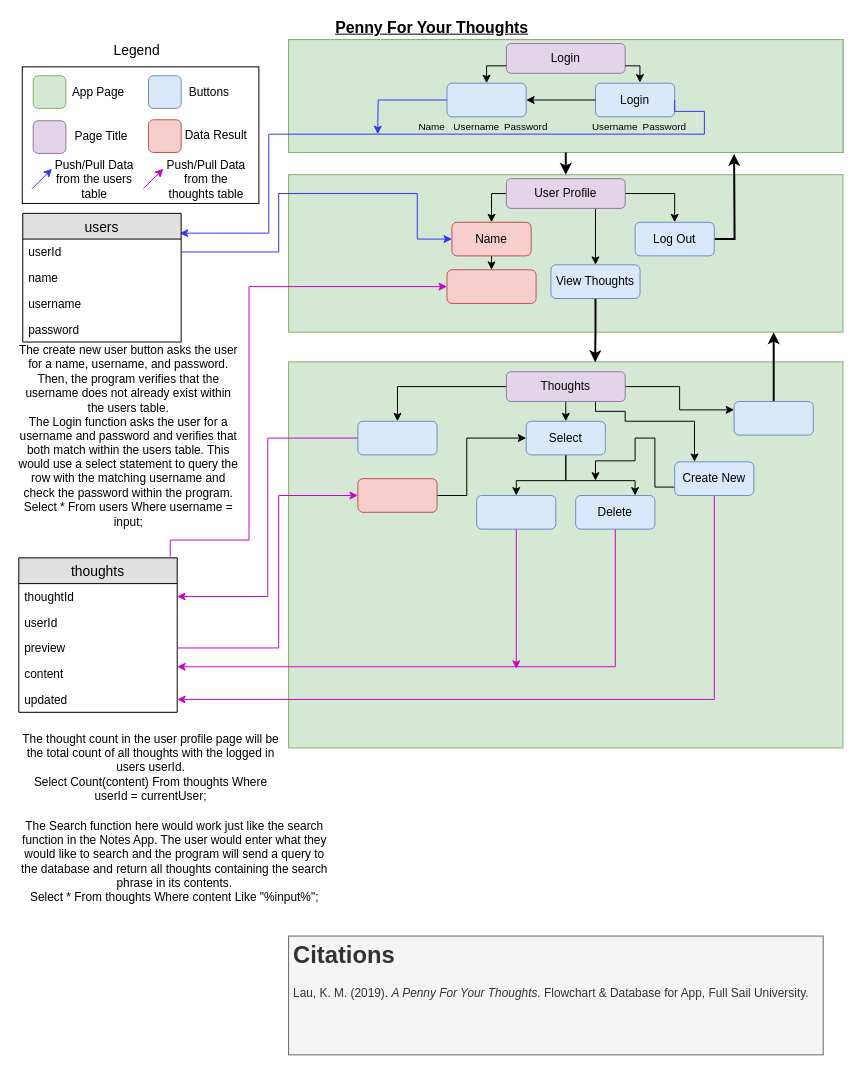
Some shapes in this 860 by 1072 pixel diagram are drawn without their labels. Each missing label, with the centre of its shape:
"Create New User" goes at (x=486, y=99).
"Edit" goes at (x=516, y=512).
"Results" goes at (x=397, y=495).
"Search" goes at (x=397, y=437).
"Thought Count" goes at (x=491, y=286).
"View Profile" goes at (x=773, y=417).
